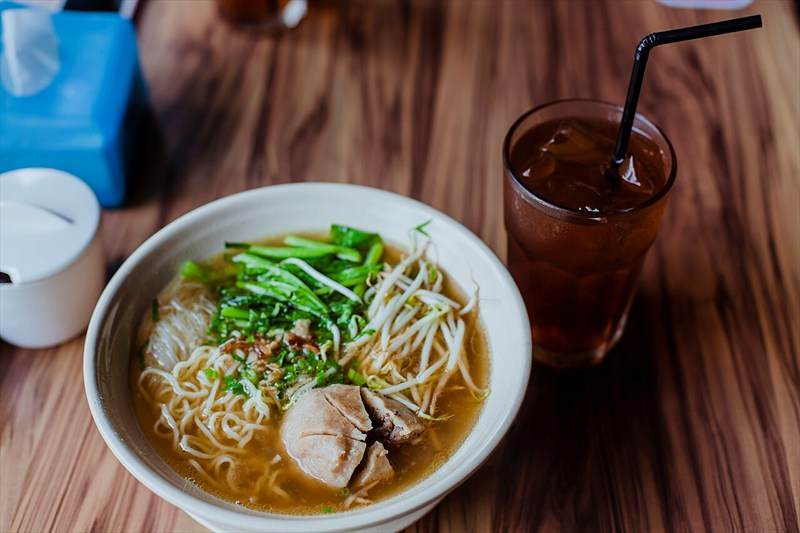Bakso: (27, 48, 553, 494)
